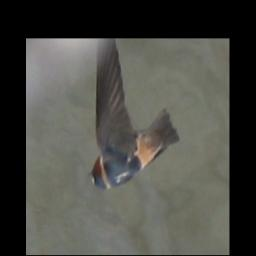Swallow: (88, 39, 181, 196)
